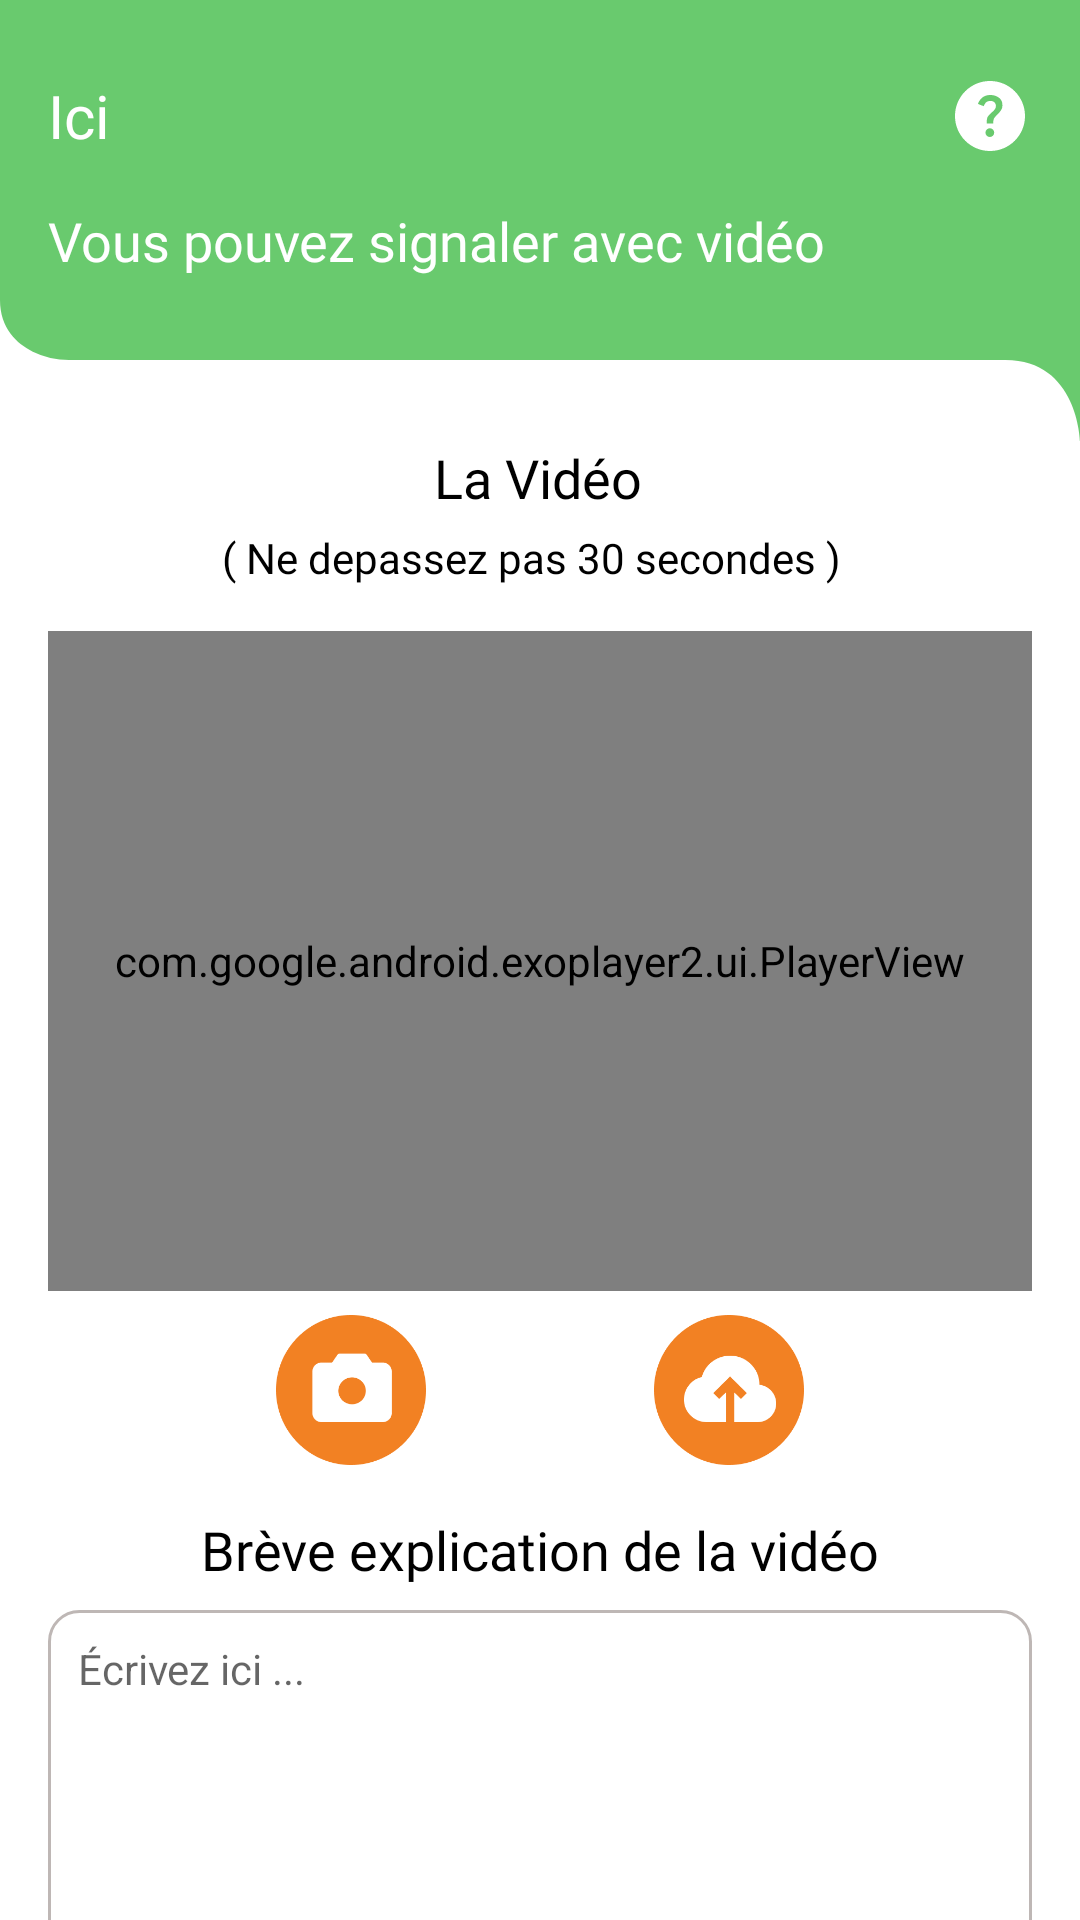

Icons on this 1080px×1920px Android screen, each with the point to tap as (x,y):
question: (990,116)
takepicture: (351,1390)
upload: (729,1390)
